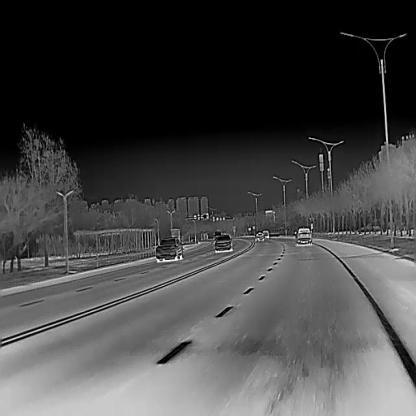car: (155, 236, 182, 261), (293, 226, 311, 245), (214, 234, 232, 252), (254, 230, 264, 240), (213, 231, 221, 240), (262, 230, 269, 238)
